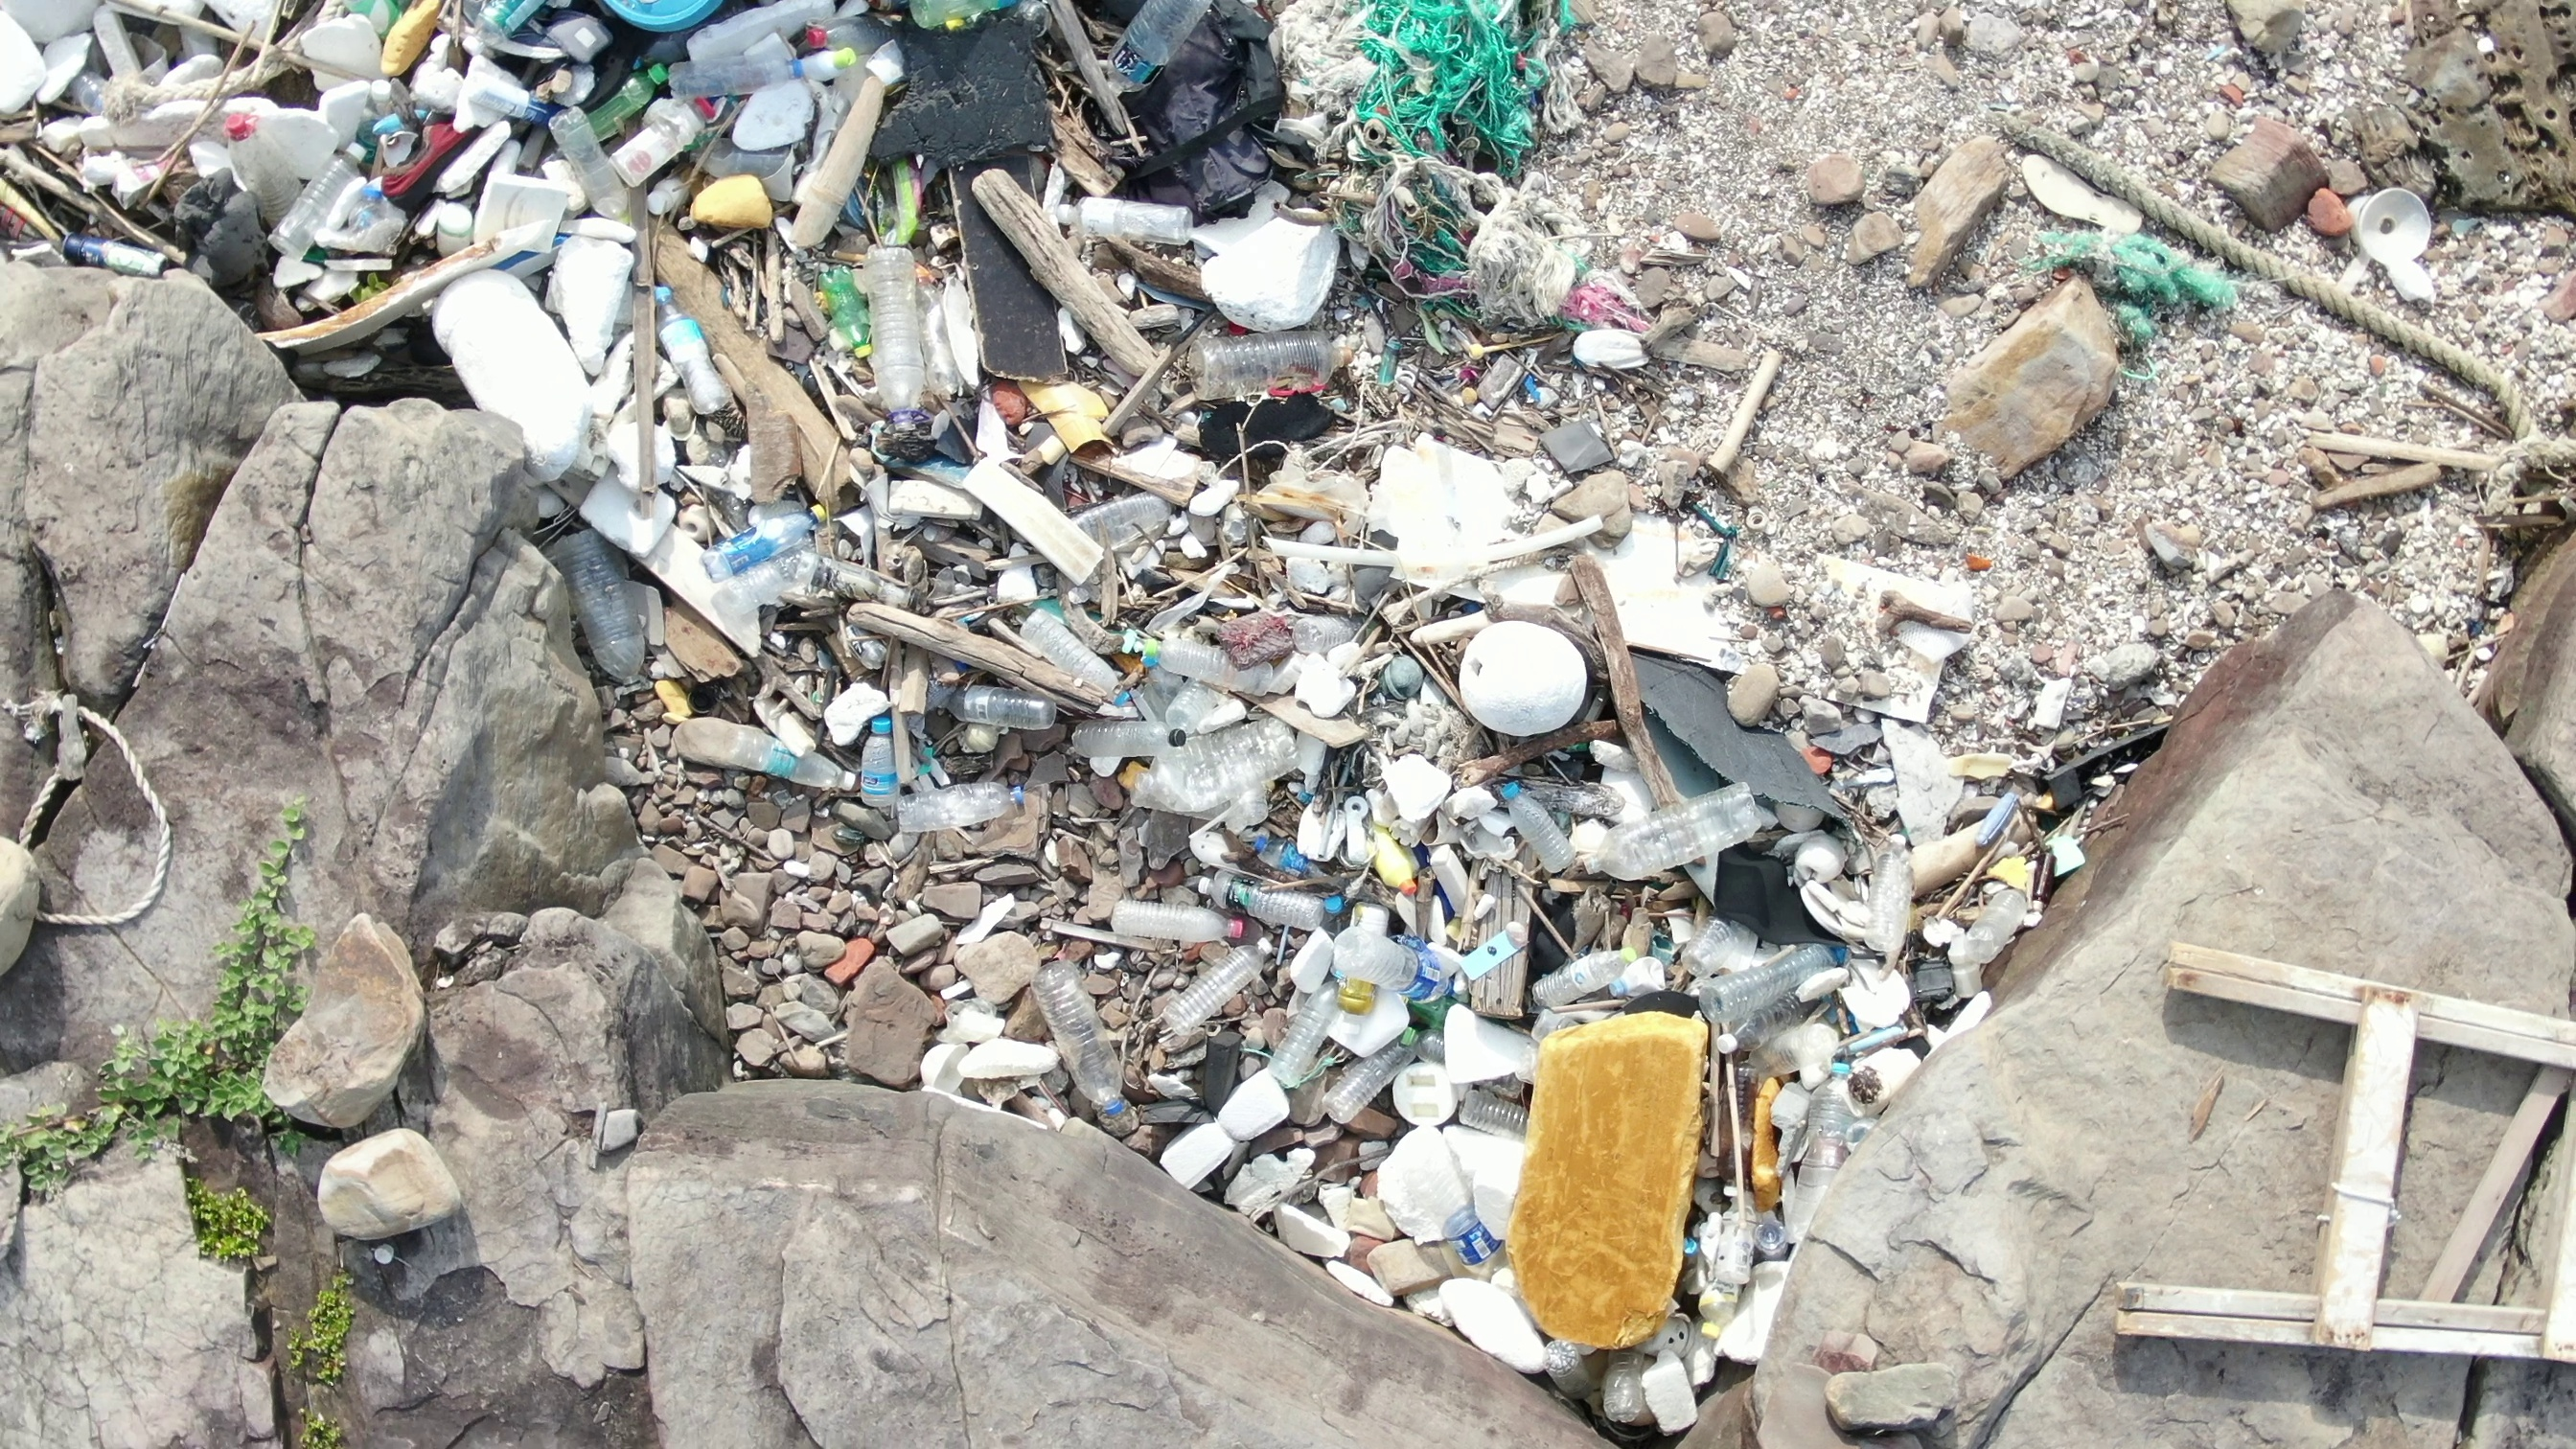bottle: (1578, 782, 1775, 897), (547, 520, 660, 694), (1024, 952, 1134, 1118), (1407, 1118, 1504, 1283), (863, 234, 934, 435), (1177, 318, 1348, 402), (1695, 945, 1875, 1021), (278, 133, 379, 265), (1316, 920, 1467, 1007), (1095, 2, 1215, 110), (1134, 628, 1300, 701), (543, 99, 640, 221), (697, 499, 835, 584), (704, 722, 856, 796), (1327, 1021, 1428, 1132), (1154, 947, 1269, 1044), (646, 285, 725, 419), (1191, 865, 1348, 931), (1093, 890, 1253, 950), (1502, 775, 1580, 885), (893, 775, 1039, 833), (1040, 191, 1207, 239), (938, 672, 1067, 732), (816, 239, 872, 373), (1445, 1069, 1532, 1154), (1265, 993, 1339, 1090), (1527, 955, 1647, 1014), (1069, 488, 1175, 554), (587, 60, 663, 143), (853, 709, 902, 817), (1054, 722, 1205, 755), (226, 99, 274, 189), (462, 2, 527, 48)
garbage: (398, 336, 1817, 824), (1037, 740, 2125, 1361), (4, 7, 1672, 370), (2123, 915, 2576, 1408), (1992, 96, 2567, 453), (2, 665, 193, 978)
